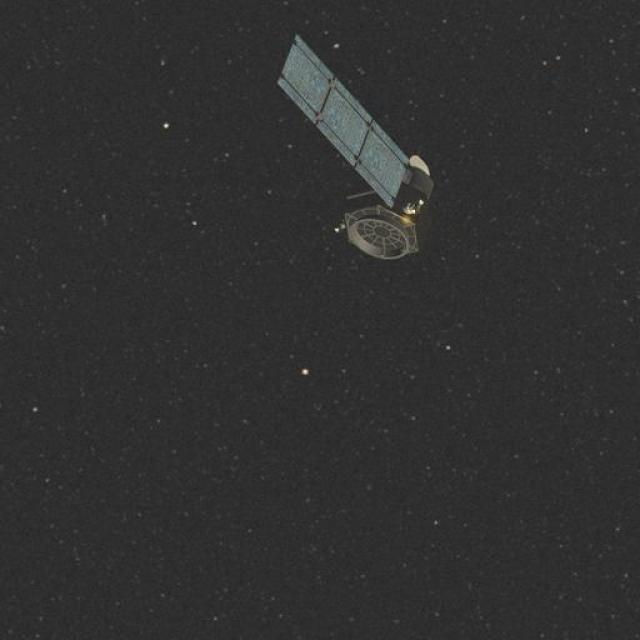earth_observation_sat_1: (264, 37, 472, 292)
